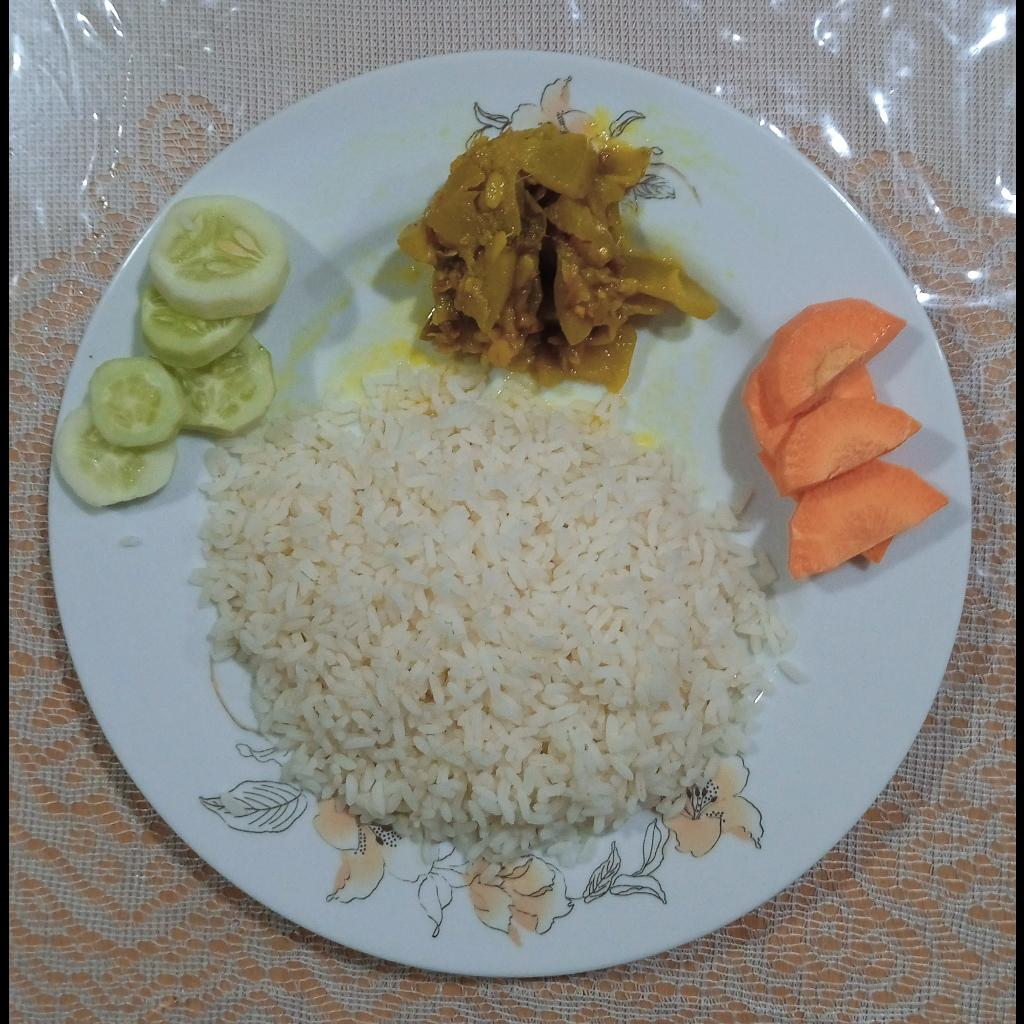carrot: (742, 297, 952, 581)
cucumber: (53, 195, 291, 508)
lau: (399, 123, 715, 392)
rice: (195, 362, 797, 863)
